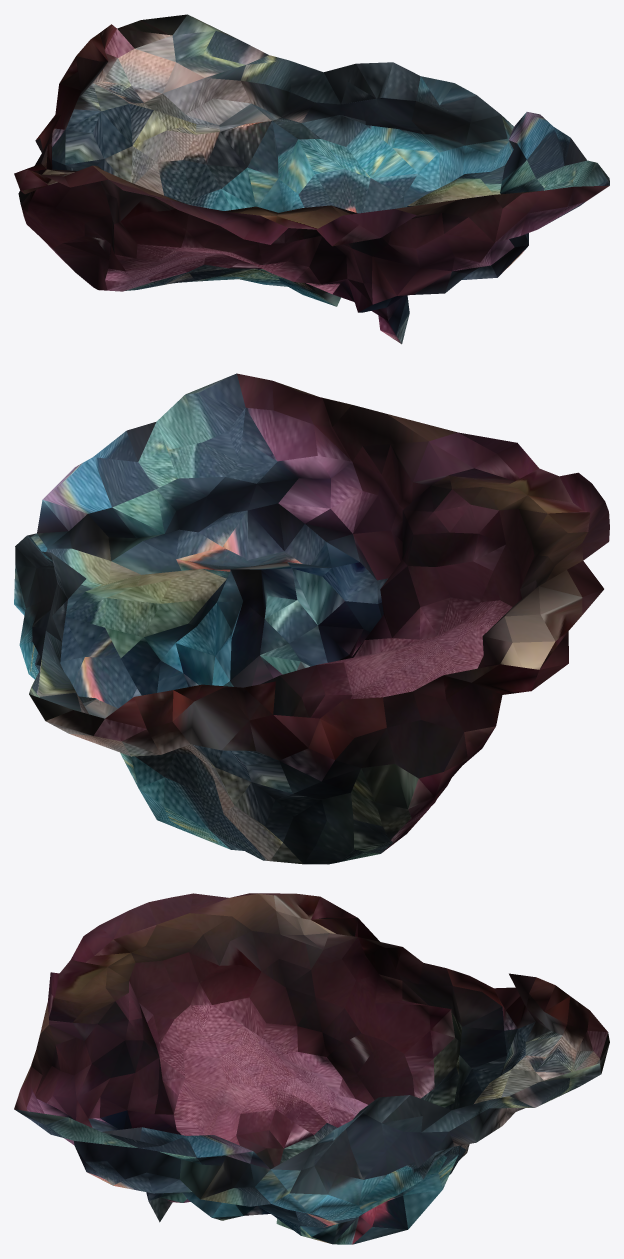
The model's file is clothBag.glb.
3 views of the same model, one above another, from view 1: azimuth 30°, elevation 25°; view 2: azimuth 150°, elevation 25°; view 3: azimuth 270°, elevation 25° (orthographic). The views are drawn at different scales.
Parts seen in each view (by area): view 1: Object_2; view 2: Object_2; view 3: Object_2.
Part boxes in pixels (<box>): Object_2: <box>14,14,609,344</box>; Object_2: <box>14,373,609,864</box>; Object_2: <box>14,893,609,1244</box>.
Size of the model in its own units: 0.6841 by 0.3119 by 0.7553.
1 material, 1 textured.
